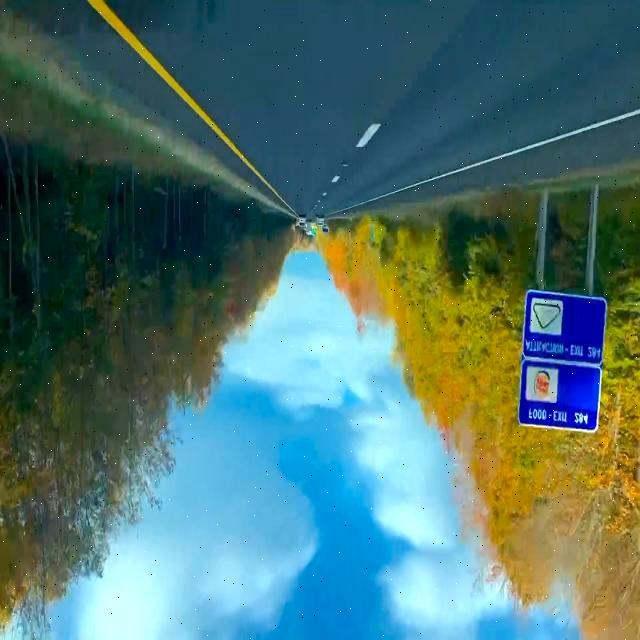lane: (88, 1, 294, 214), (331, 108, 640, 213), (357, 123, 381, 148)
road: (108, 1, 639, 217), (5, 1, 263, 189), (364, 116, 639, 208)
